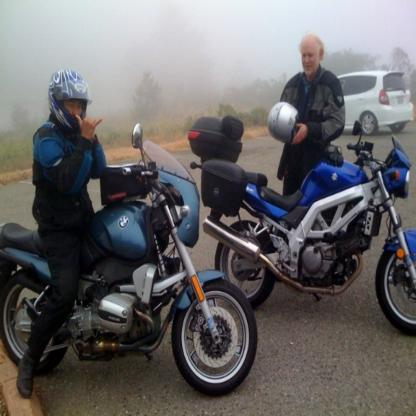Helmet: (43, 68, 90, 138), (266, 100, 297, 146)
